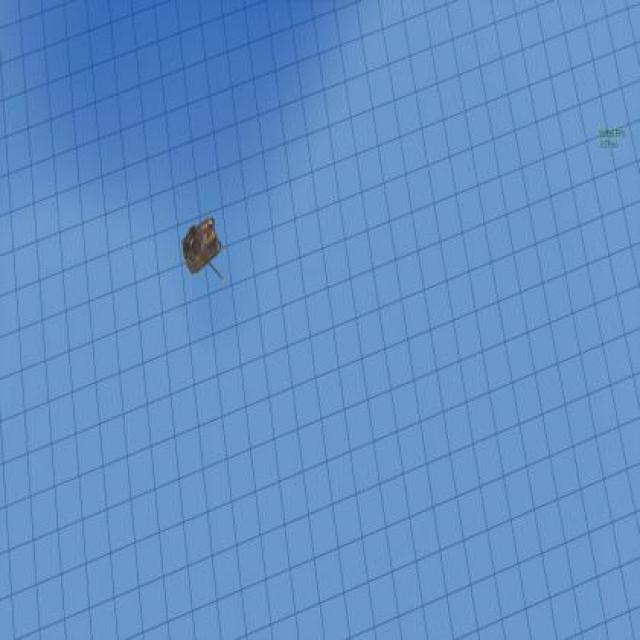tank: (180, 213, 224, 281)
